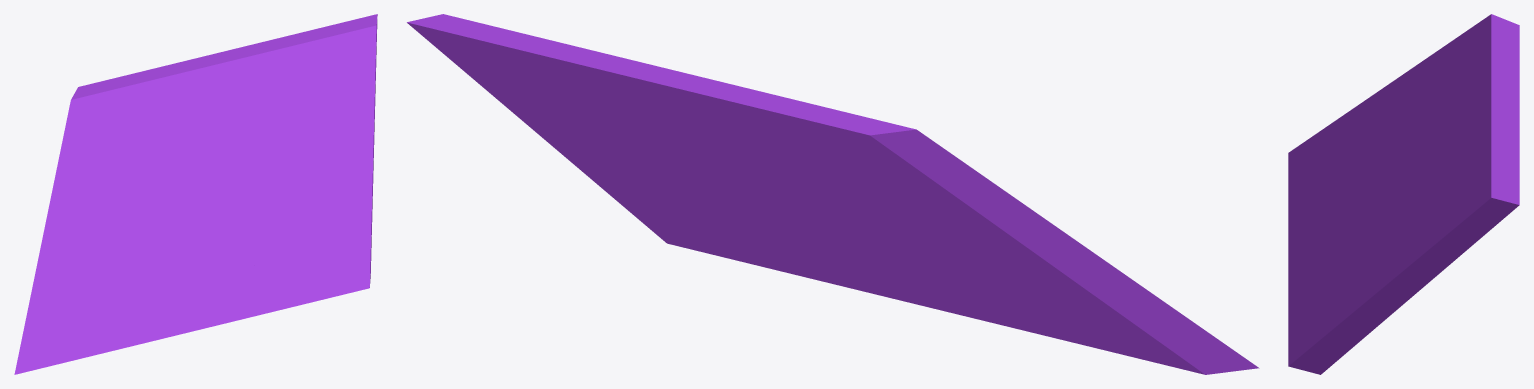
The model's file is Window_128_chunks.fbx.
The picture shows the model from 3 angles, left to right: view 1: azimuth 30°, elevation 25°; view 2: azimuth 150°, elevation 25°; view 3: azimuth 270°, elevation 25°; orthographic projection. The views are drawn at different scales.
Parts seen in each view (by area): view 1: Window_128_2, Window_128_3, Window_128_1, Window_128_0; view 2: Window_128_0, Window_128_3, Window_128_2, Window_128_1; view 3: Window_128_3, Window_128_2, Window_128_1, Window_128_0.
Boxes of the visible parts, x1=… form: Window_128_2: x1=14, y1=181, x2=272, y2=374; Window_128_3: x1=147, y1=14, x2=377, y2=192; Window_128_1: x1=225, y1=129, x2=374, y2=311; Window_128_0: x1=38, y1=70, x2=201, y2=259; Window_128_0: x1=763, y1=100, x2=1116, y2=310; Window_128_3: x1=407, y1=14, x2=797, y2=193; Window_128_2: x1=824, y1=216, x2=1259, y2=374; Window_128_1: x1=520, y1=119, x2=869, y2=292; Window_128_3: x1=1390, y1=60, x2=1519, y2=278; Window_128_2: x1=1288, y1=95, x2=1402, y2=307; Window_128_1: x1=1288, y1=193, x2=1432, y2=374; Window_128_0: x1=1373, y1=14, x2=1519, y2=167.
Bounding box in the file's own units: 2021 × 763 × 720.
